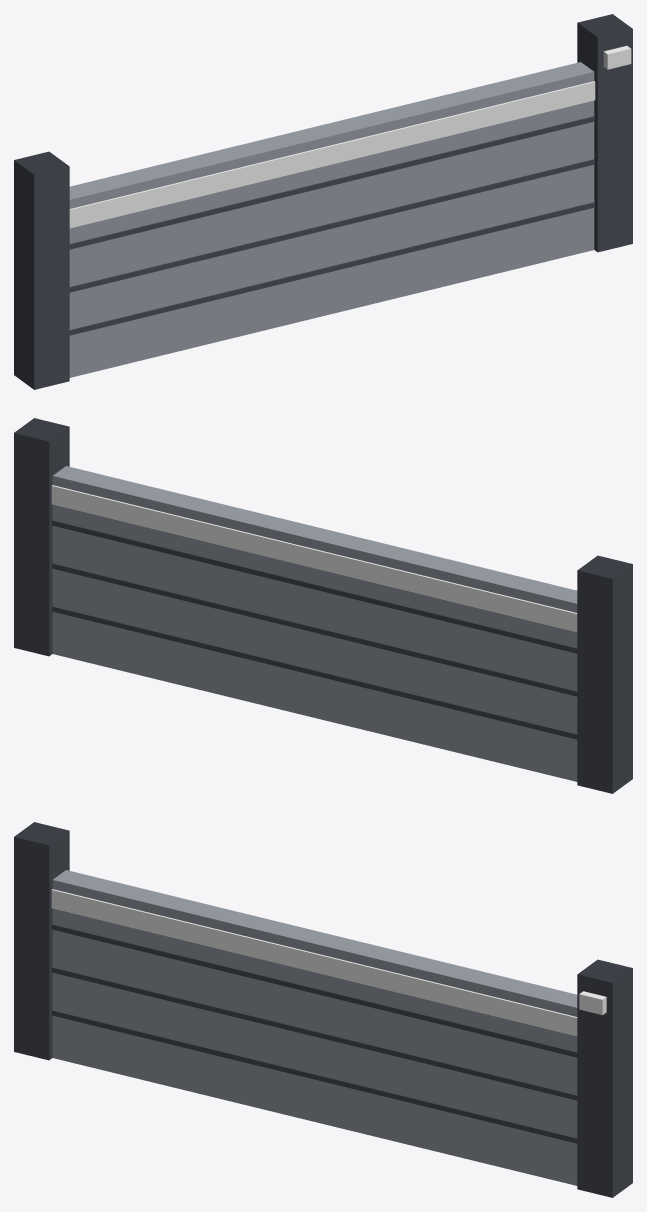
The model's file is env_gate_rollup.glb.
The picture shows the model from 3 angles, top to bottom: view 1: azimuth 30°, elevation 25°; view 2: azimuth 150°, elevation 25°; view 3: azimuth 330°, elevation 25°; orthographic projection.
Visible parts, largest first — view 1: shutter, frame; view 2: shutter, frame; view 3: shutter, frame.
Part boxes in pixels (<box>): shutter: <box>69,62,595,377</box>; frame: <box>14,14,632,389</box>; shutter: <box>51,466,577,781</box>; frame: <box>14,418,632,793</box>; shutter: <box>51,870,577,1185</box>; frame: <box>14,822,632,1197</box>.
Bounding box in the file's own units: 1.02 × 0.35 × 0.072.
2 materials, 1 textured.
